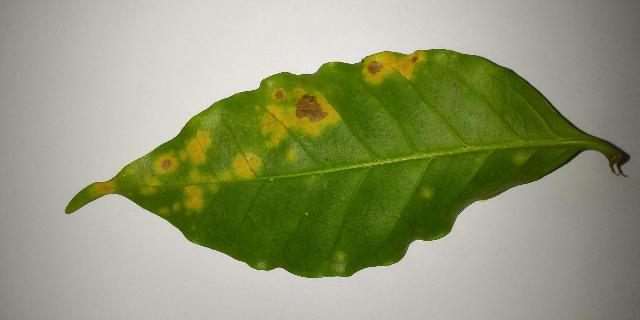miner: (122, 129, 263, 219), (257, 85, 341, 149), (362, 50, 425, 83), (91, 180, 116, 196), (285, 147, 297, 162), (422, 189, 430, 197), (337, 253, 344, 260), (257, 108, 259, 109)
